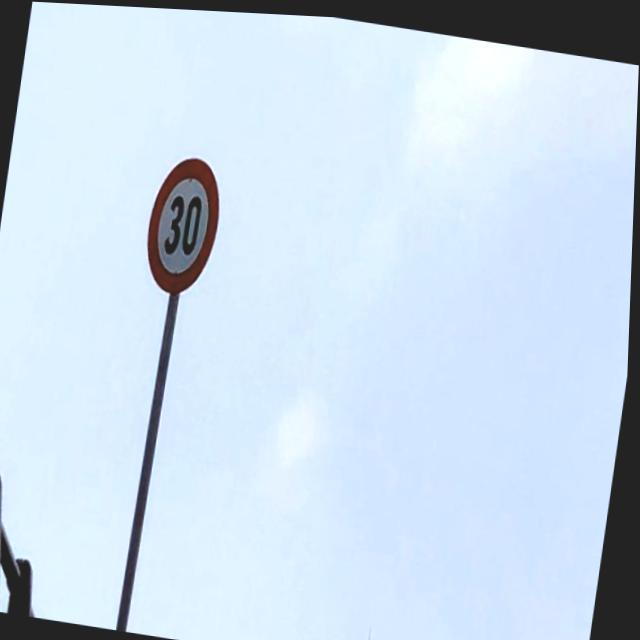Toc do toi da cho phep: (144, 144, 232, 302)
